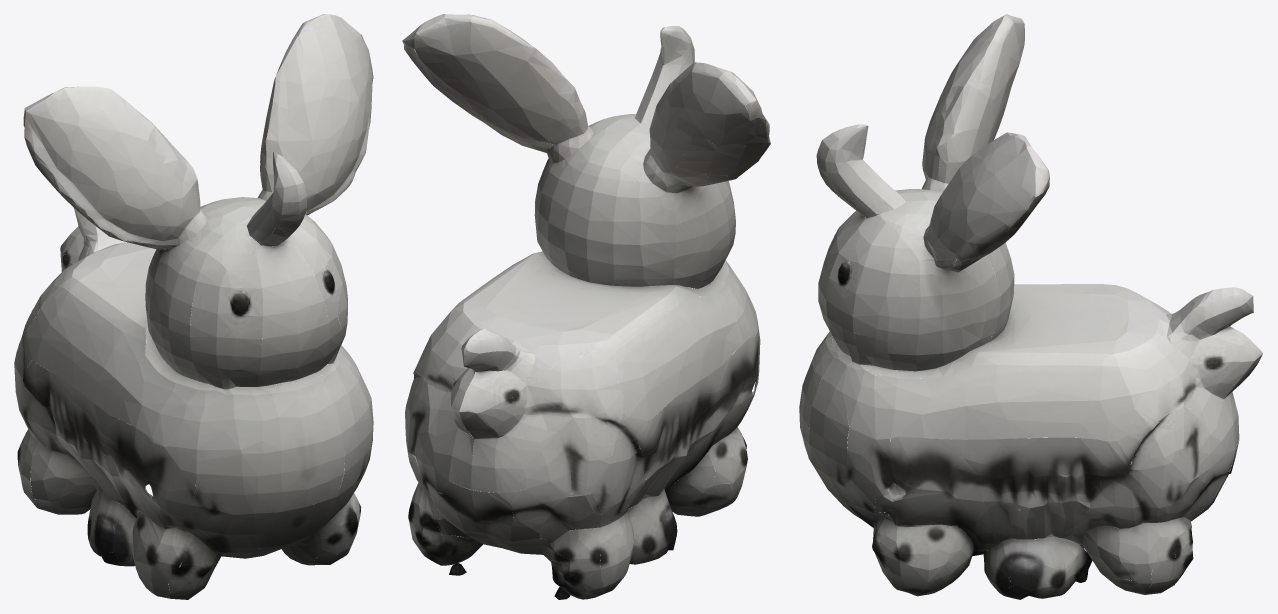
3 renders of one model, left to right at view 1: azimuth 30°, elevation 25°; view 2: azimuth 150°, elevation 25°; view 3: azimuth 270°, elevation 25°, orthographic. The views are drawn at different scales.
Visible parts, largest first — view 1: world; view 2: world; view 3: world.
Boxes of the visible parts, x1=… form: world: x1=14, y1=14, x2=373, y2=599; world: x1=402, y1=14, x2=770, y2=599; world: x1=799, y1=14, x2=1262, y2=599.
Size of the model in its own units: 0.754 by 1 by 0.8805.
1 material, 1 textured.
